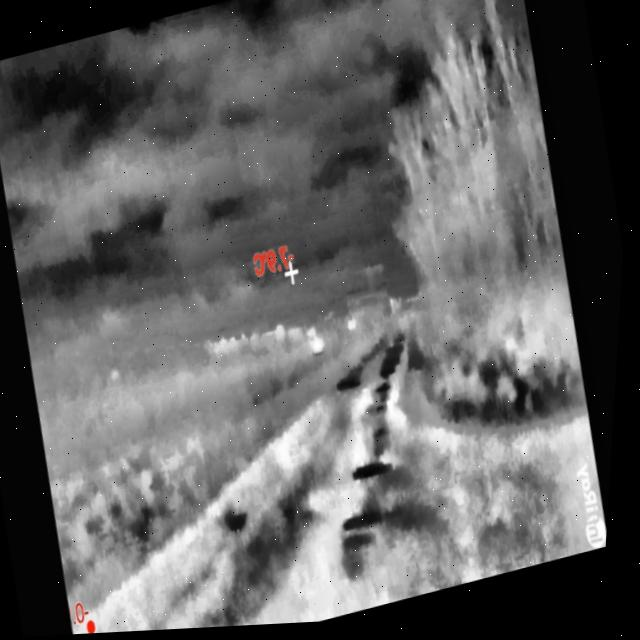drone: (314, 339, 329, 360)
